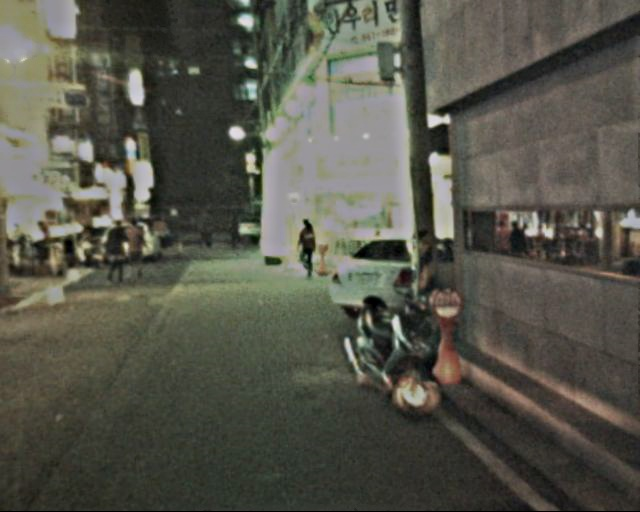person: (122, 219, 153, 284), (295, 217, 324, 279), (102, 222, 129, 284), (166, 207, 188, 257), (195, 209, 216, 253), (149, 213, 168, 258), (223, 212, 243, 251)
